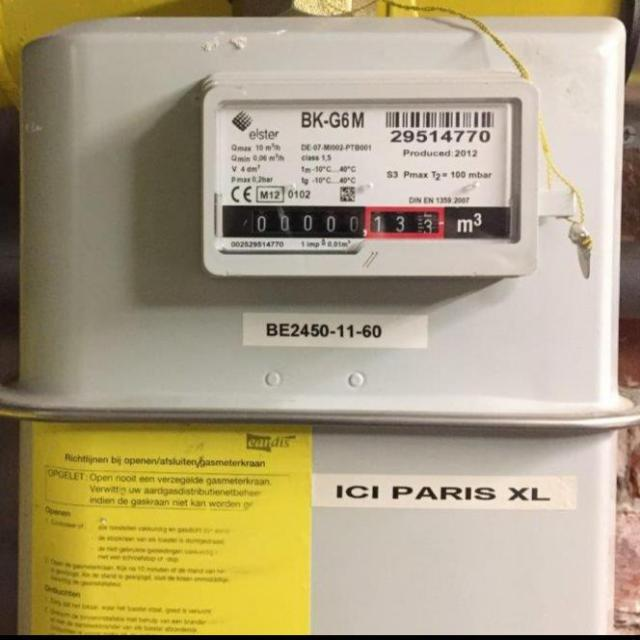gaz_meter: (220, 102, 520, 244)
indication: (236, 205, 445, 238)
